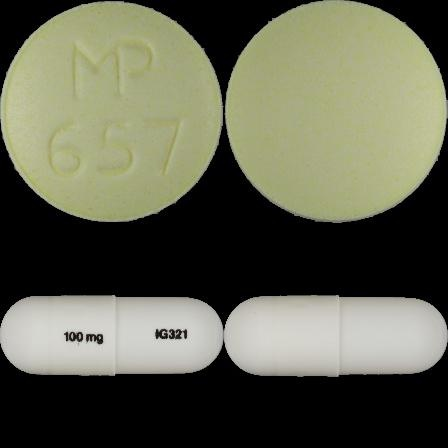64725-0215: (0, 0, 224, 224)
